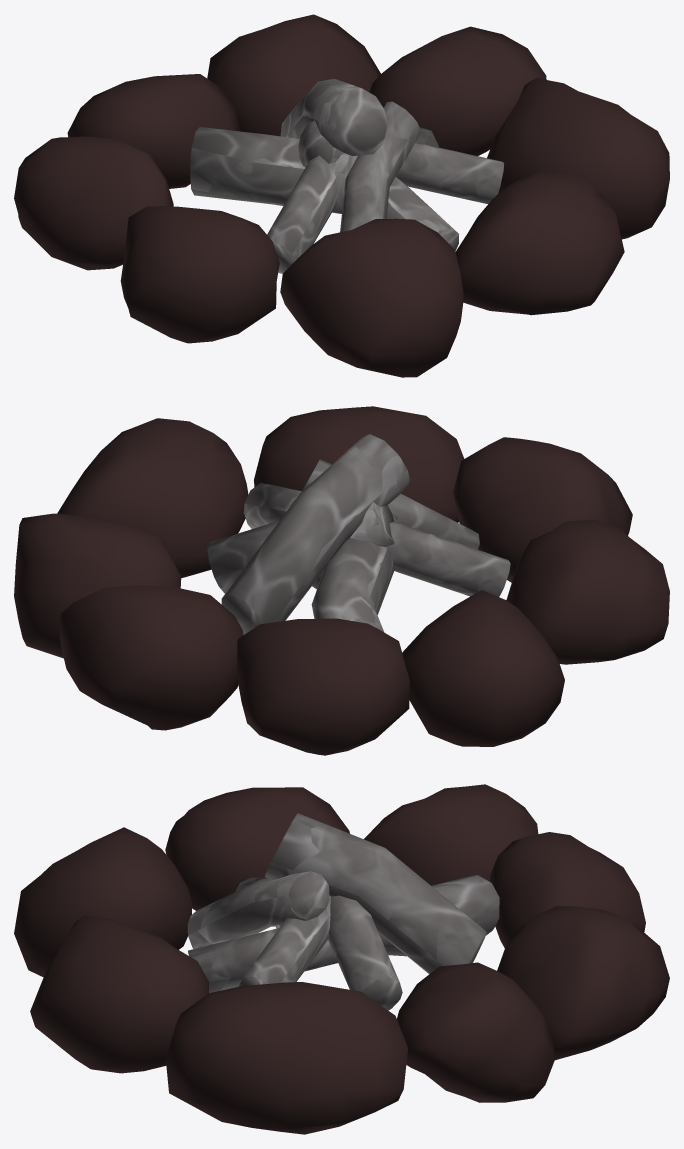
The model's file is ognisko.fbx.
3 renders of one model, top to bottom at view 1: azimuth 30°, elevation 25°; view 2: azimuth 150°, elevation 25°; view 3: azimuth 270°, elevation 25°, orthographic. The views are drawn at different scales.
Visible parts, largest first — view 1: Sphere.002, Cylinder.021; view 2: Sphere.002, Cylinder.021; view 3: Sphere.002, Cylinder.021.
Boxes of the visible parts, box(x1,y1,x2,y2) form: Sphere.002: box(14, 14, 669, 377); Cylinder.021: box(190, 78, 504, 273); Sphere.002: box(14, 406, 669, 755); Cylinder.021: box(207, 434, 510, 634); Sphere.002: box(14, 784, 669, 1134); Cylinder.021: box(187, 813, 499, 1010).
Size of the model in its own units: 506 by 168 by 511.
Materials: 2 (2 with a texture image).
